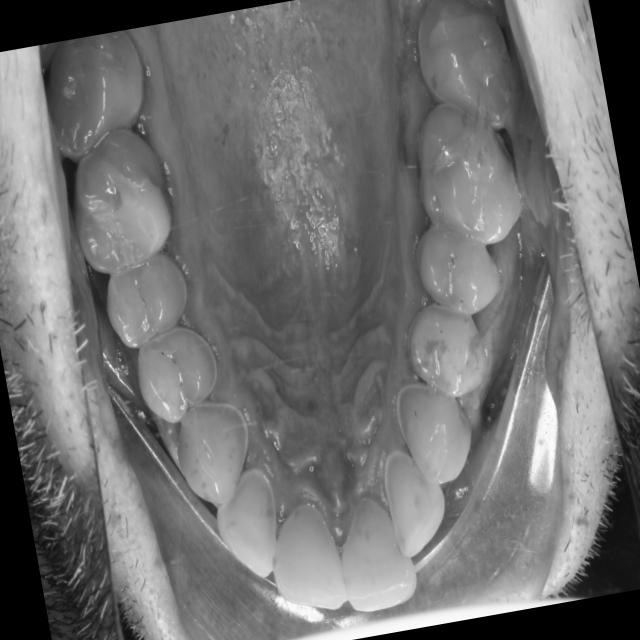tooth: (402, 81, 536, 265), (58, 121, 189, 292), (402, 0, 534, 151), (39, 26, 167, 165), (400, 198, 516, 337), (112, 305, 233, 438), (164, 367, 273, 514), (317, 487, 432, 622), (253, 480, 357, 626), (200, 445, 296, 596), (87, 242, 207, 358), (389, 361, 487, 498), (396, 293, 493, 409), (375, 446, 459, 566), (436, 0, 514, 36)
